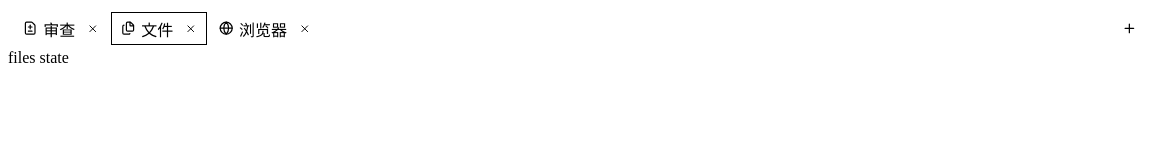
Workbench controlled shell › reorders the exact descriptor selected at pointer-down
Check: the element "浏览器" is shown, box [209, 12, 321, 45]
Press the mouse on the element "审查": (62, 28) [14, 12, 110, 45]
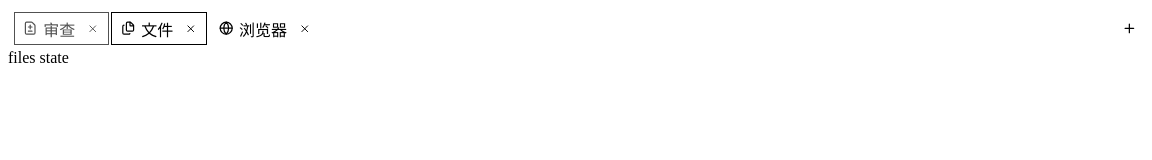
Hover over the element "浏览器": (265, 28) [209, 12, 321, 45]
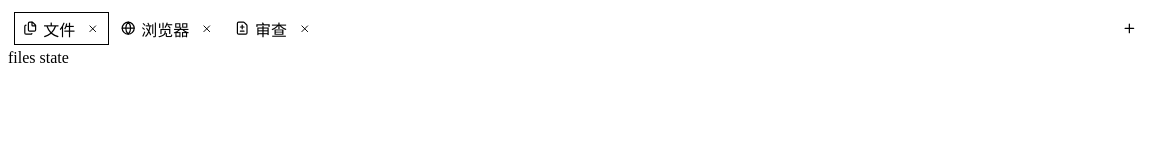
Check: the tabs read "文件", "浏览器", "审查", in this order, box [15, 13, 82, 44]; [112, 13, 195, 44]; [226, 13, 293, 44]
